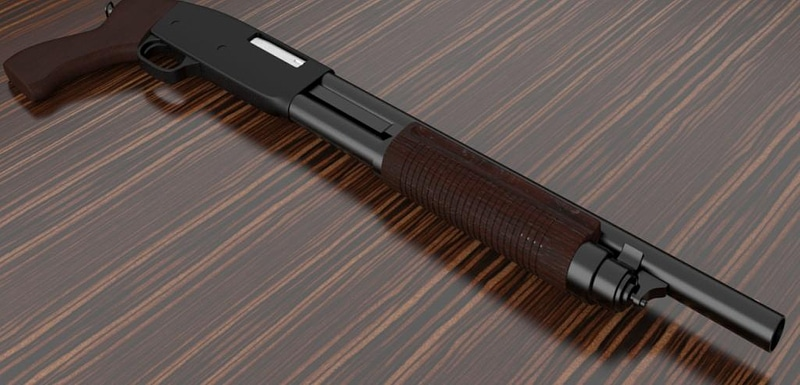weapon: (1, 1, 789, 382)
